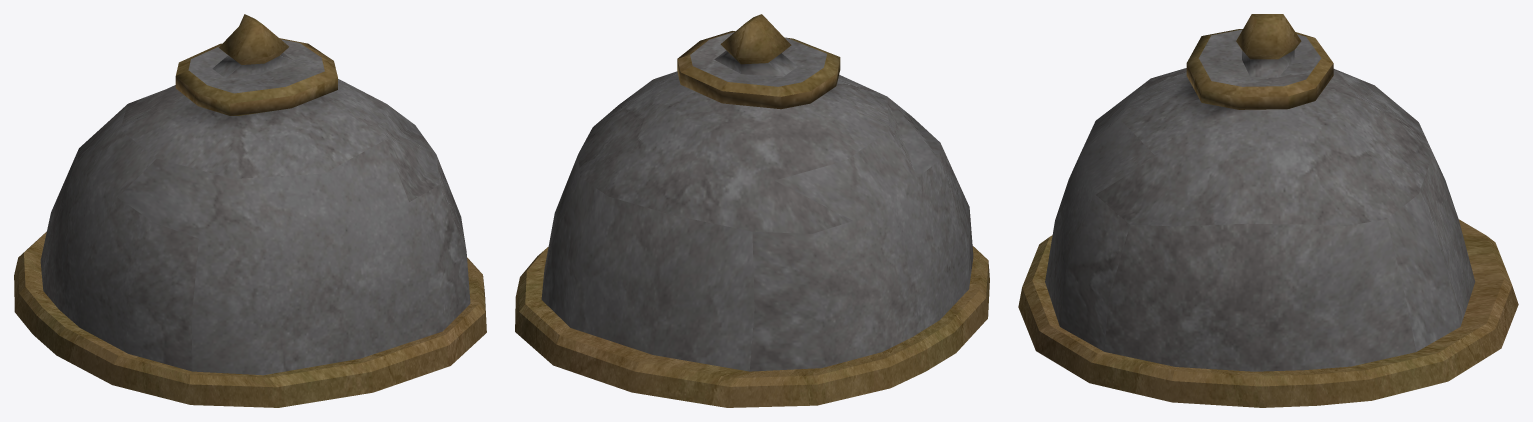
The model's file is HeadArmor.fbx.
The picture shows the model from 3 angles, left to right: view 1: azimuth 30°, elevation 25°; view 2: azimuth 150°, elevation 25°; view 3: azimuth 270°, elevation 25°; orthographic projection. The views are drawn at different scales.
Visible parts, largest first — view 1: Helmet_1.003; view 2: Helmet_1.003; view 3: Helmet_1.003.
Part boxes in pixels (x1,y1,x2,y2): Helmet_1.003: (14, 14, 486, 407); Helmet_1.003: (515, 14, 989, 407); Helmet_1.003: (1018, 14, 1518, 407).
Size of the model in its own units: 9.54 by 6.61 by 10.11.
